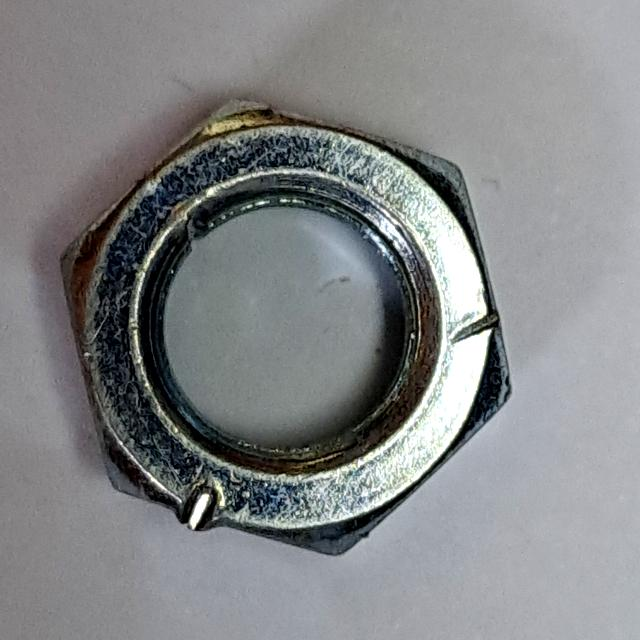Scratches: (44, 90, 530, 572)
